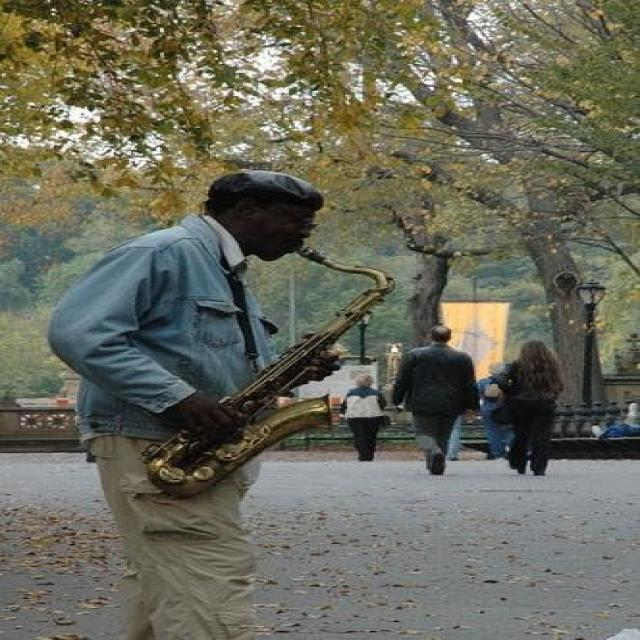saxophone: (148, 245, 398, 499)
